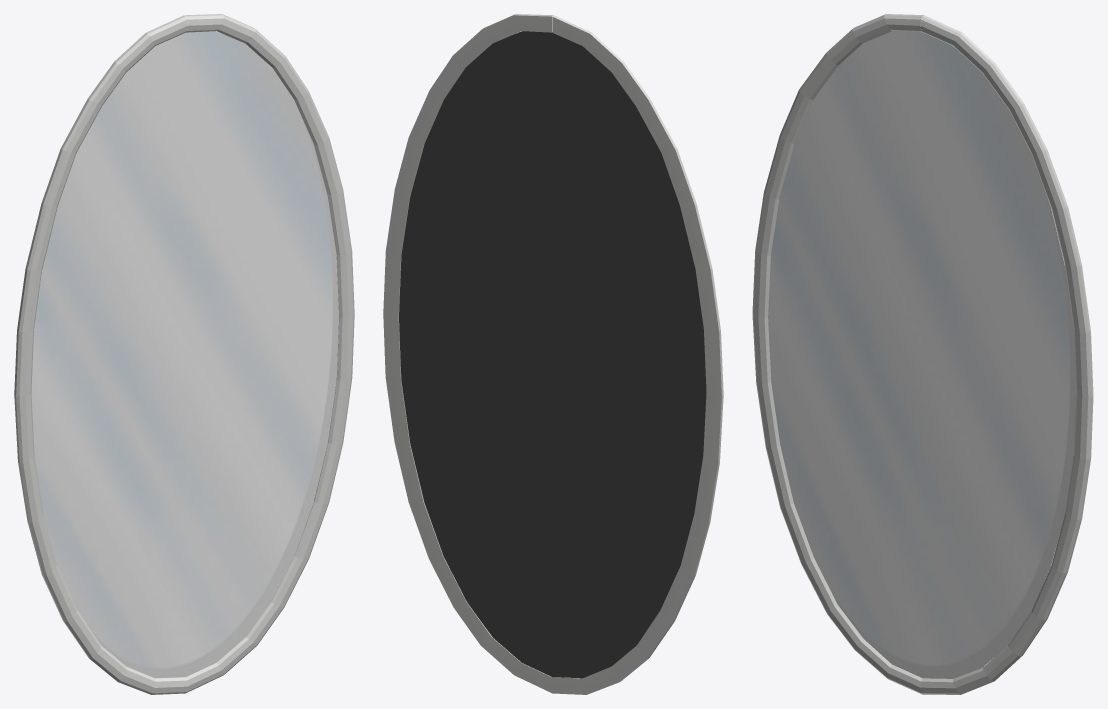
Rendered from sweethome3d-contributions-oval-mirror-136.glb.
3 views of the same model, side by side, from view 1: azimuth 30°, elevation 25°; view 2: azimuth 150°, elevation 25°; view 3: azimuth 330°, elevation 25° (orthographic).
Parts seen in each view (by area): view 1: sweethome3d_window_mirror, Tube; view 2: Fond, Tube; view 3: sweethome3d_window_mirror, Tube.
Part boxes in pixels (box(x1,y1,x2,y2)): sweethome3d_window_mirror: box(31, 31, 338, 678); Tube: box(14, 14, 354, 694); Fond: box(399, 31, 706, 678); Tube: box(383, 14, 723, 694); sweethome3d_window_mirror: box(768, 31, 1076, 678); Tube: box(752, 14, 1093, 694).
Size of the model in its own units: 54.9 by 105 by 0.9989.
Materials: 3 (1 with a texture image).
